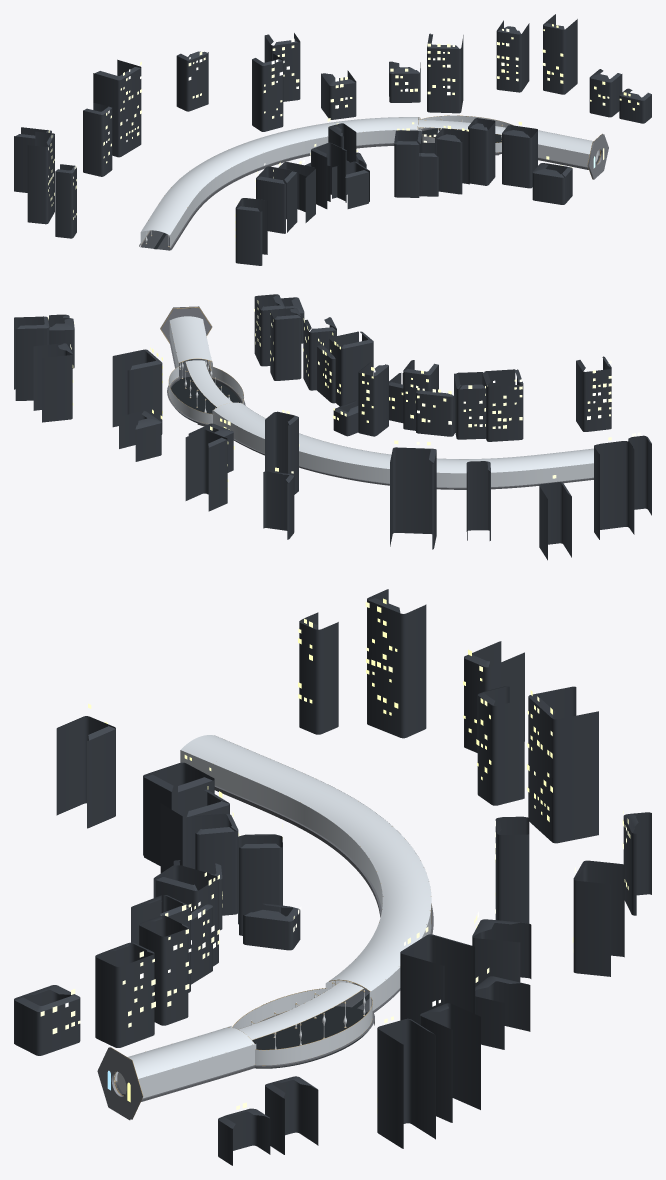
Rendered from rain.glb.
3 renders of one model, top to bottom at view 1: azimuth 30°, elevation 25°; view 2: azimuth 150°, elevation 25°; view 3: azimuth 270°, elevation 25°, orthographic. The views are drawn at different scales.
Visible parts, largest first — view 1: rain.city, rain.roof_glass, rain.wall_glass, rain.city_lights, rain.plinth, rain.endwall, rain.court_glass, rain.canopy, rain.floor; view 2: rain.city, rain.roof_glass, rain.wall_glass, rain.city_lights, rain.pool, rain.court_glass, rain.canopy, rain.plinth, rain.endwall; view 3: rain.city, rain.roof_glass, rain.wall_glass, rain.city_lights, rain.court_glass, rain.pool, rain.canopy, rain.endwall, rain.plinth.
Boxes of the visible parts, x1=… form: rain.city: x1=14, y1=14, x2=651, y2=265; rain.roof_glass: x1=141, y1=117, x2=593, y2=235; rain.wall_glass: x1=140, y1=117, x2=600, y2=247; rain.city_lights: x1=48, y1=24, x2=639, y2=249; rain.plinth: x1=139, y1=143, x2=600, y2=250; rain.endwall: x1=587, y1=134, x2=608, y2=179; rain.court_glass: x1=418, y1=115, x2=512, y2=152; rain.canopy: x1=418, y1=120, x2=505, y2=134; rain.floor: x1=140, y1=157, x2=599, y2=250; rain.city: x1=14, y1=294, x2=651, y2=560; rain.roof_glass: x1=169, y1=316, x2=593, y2=473; rain.wall_glass: x1=169, y1=322, x2=593, y2=487; rain.city_lights: x1=48, y1=300, x2=640, y2=489; rain.pool: x1=171, y1=376, x2=240, y2=423; rain.court_glass: x1=168, y1=366, x2=243, y2=423; rain.canopy: x1=186, y1=360, x2=232, y2=407; rain.plinth: x1=168, y1=335, x2=593, y2=489; rain.endwall: x1=160, y1=306, x2=212, y2=341; rain.city: x1=14, y1=589, x2=651, y2=1165; rain.roof_glass: x1=128, y1=735, x2=431, y2=1078; rain.wall_glass: x1=114, y1=738, x2=431, y2=1098; rain.city_lights: x1=40, y1=598, x2=630, y2=1113; rain.court_glass: x1=232, y1=988, x2=372, y2=1065; rain.pool: x1=252, y1=1006, x2=367, y2=1068; rain.canopy: x1=238, y1=982, x2=363, y2=1039; rain.endwall: x1=97, y1=1047, x2=142, y2=1120; rain.plinth: x1=114, y1=785, x2=433, y2=1101.
Bounding box in the file's own units: 149 × 23.28 × 89.01.
